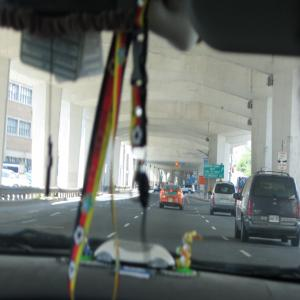Vehicle-registration-plate: (270, 217, 281, 224)
